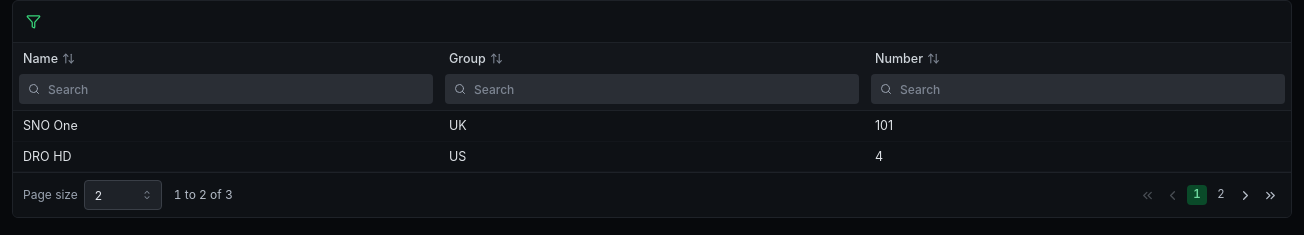
Test: DataTable › disables the pager at both ends
Expected: the button named "Previous page" is disabled, [1162, 185, 1183, 206]
Expected: the button named "Next page" is enabled, [1235, 185, 1256, 206]
Click the button named "Last page" at (1270, 195), box [1260, 185, 1281, 206]
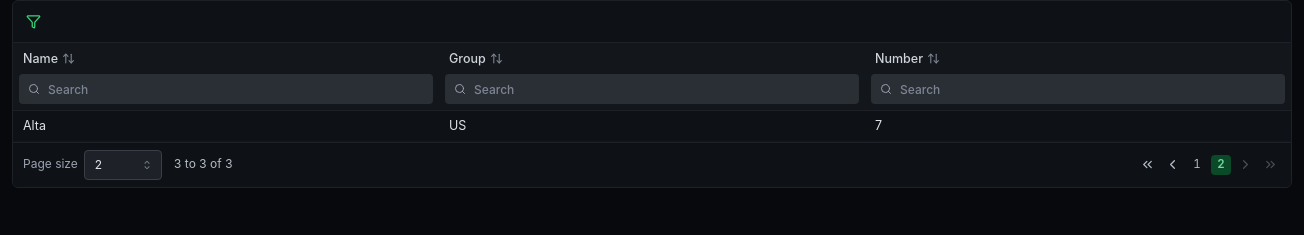
Expected: the button named "Next page" is disabled, [1235, 154, 1256, 175]
Expected: the button named "First page" is enabled, [1137, 154, 1158, 175]
